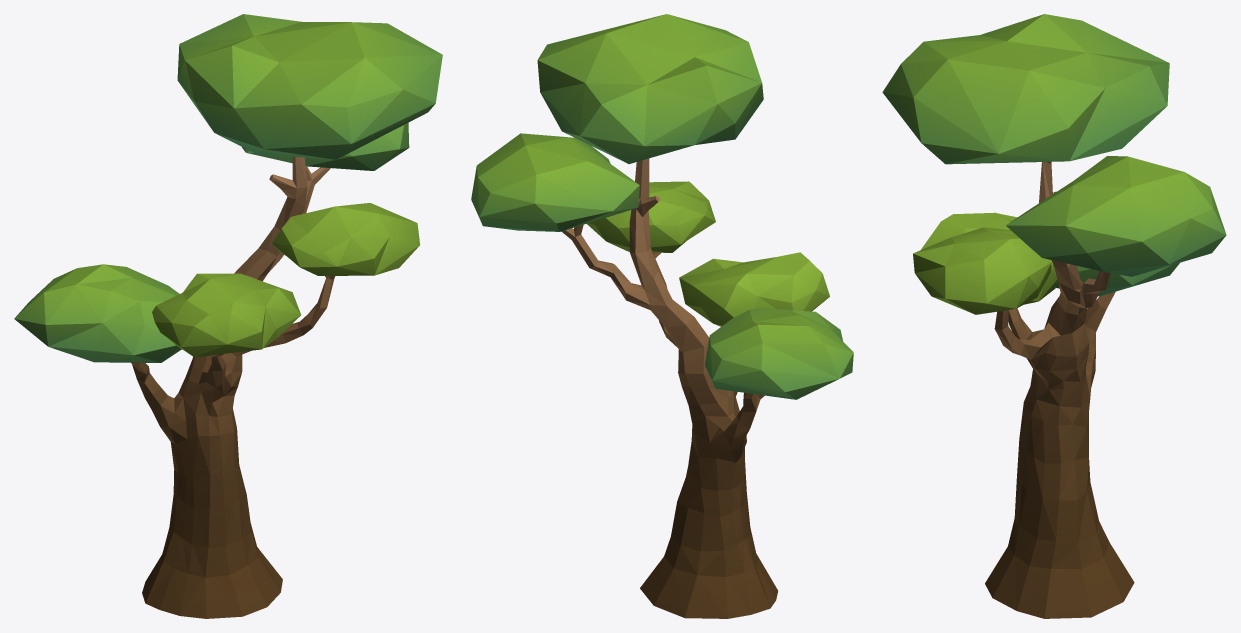
Rendered from ZLP_Plant_B_2.FBX.
3 renders of one model, left to right at view 1: azimuth 30°, elevation 25°; view 2: azimuth 150°, elevation 25°; view 3: azimuth 270°, elevation 25°, orthographic. The views are drawn at different scales.
Parts seen in each view (by area): view 1: ZLP_Plant_B_2; view 2: ZLP_Plant_B_2; view 3: ZLP_Plant_B_2.
Boxes of the visible parts, x1=… form: ZLP_Plant_B_2: x1=14, y1=14, x2=442, y2=618; ZLP_Plant_B_2: x1=471, y1=14, x2=853, y2=618; ZLP_Plant_B_2: x1=882, y1=14, x2=1226, y2=618.
Size of the model in its own units: 373 by 520 by 280.
